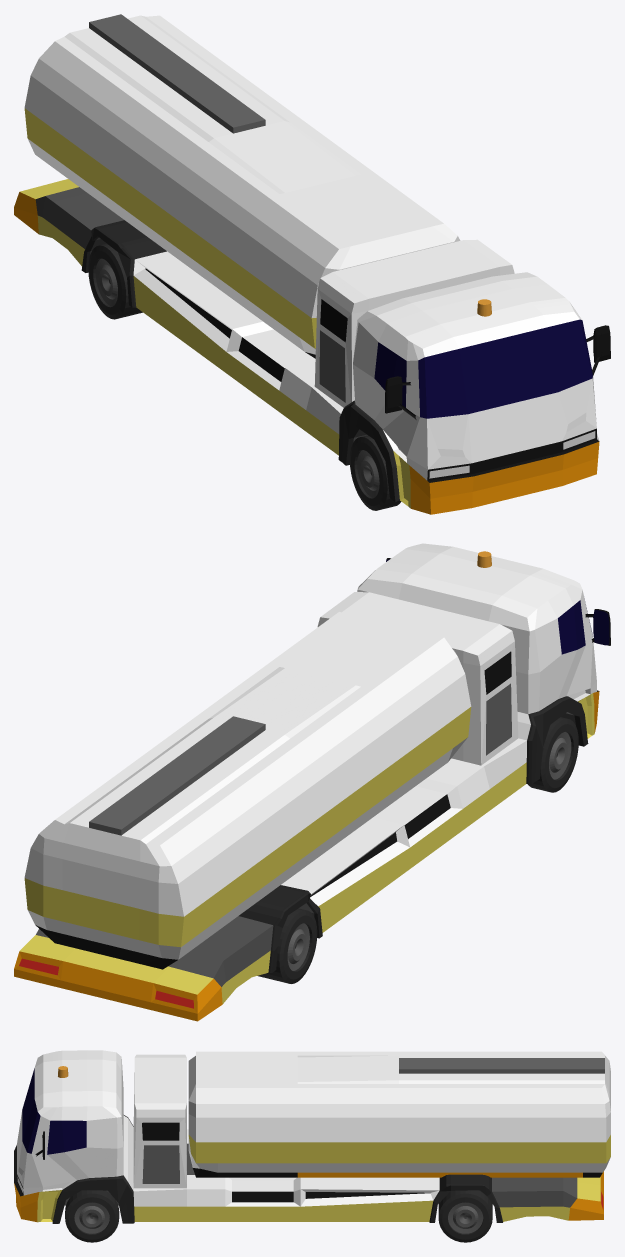
File: FuelTruck.fbx
The picture shows the model from 3 angles, top to bottom: view 1: azimuth 30°, elevation 25°; view 2: azimuth 150°, elevation 25°; view 3: azimuth 270°, elevation 25°; orthographic projection. The views are drawn at different scales.
Visible parts, largest first — view 1: FuelTruck, FuelTruckBackRightOut, FuelTruckFrontRight; view 2: FuelTruck, FuelTruckBackRightOut, FuelTruckFrontRight; view 3: FuelTruck, FuelTruckBackLeftOut, FuelTruckFrontLeft.
Part boxes in pixels (left/top/right/bottom): FuelTruck: left=14, top=14, right=610, bottom=514; FuelTruckBackRightOut: left=88, top=243, right=139, bottom=319; FuelTruckFrontRight: left=349, top=435, right=401, bottom=510; FuelTruck: left=14, top=543, right=610, bottom=1021; FuelTruckBackRightOut: left=265, top=908, right=317, bottom=983; FuelTruckFrontRight: left=528, top=717, right=578, bottom=792; FuelTruck: left=14, top=1050, right=610, bottom=1223; FuelTruckBackLeftOut: left=438, top=1190, right=492, bottom=1242; FuelTruckFrontLeft: left=65, top=1190, right=119, bottom=1242.
Bounding box in the file's own units: 3.13 × 10.08 × 2.71.
